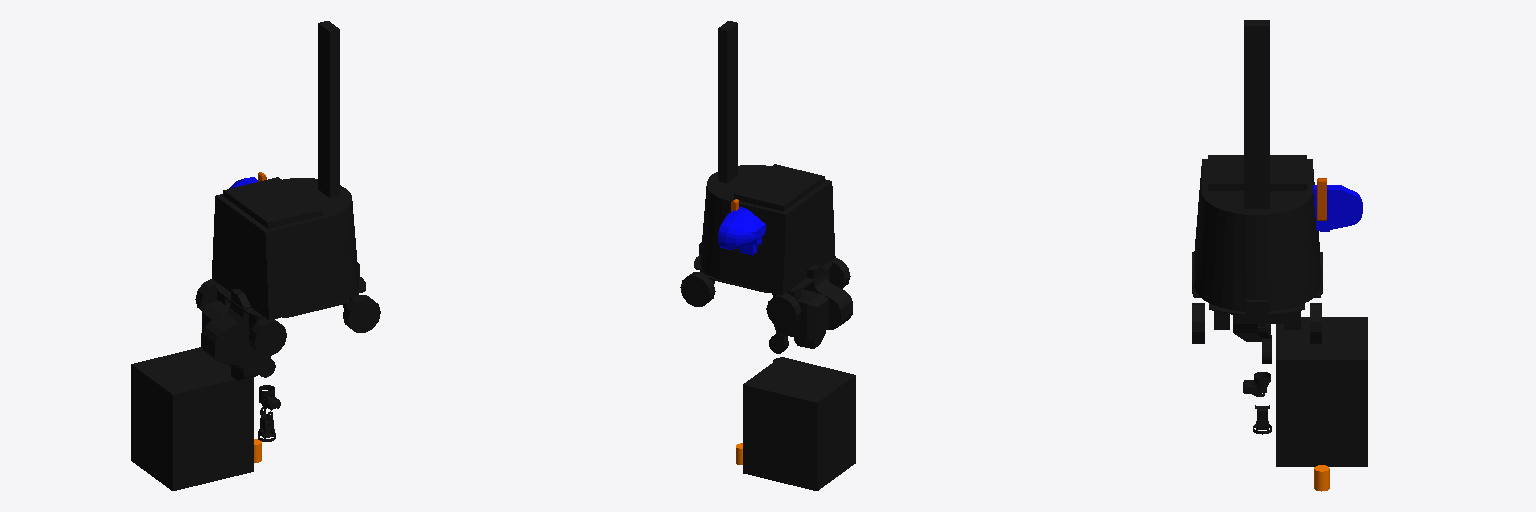
--- Render facts (derived) ---
3 views of the same robot in one strip: view 1: azimuth 30°, elevation 25°; view 2: azimuth 150°, elevation 25°; view 3: azimuth 270°, elevation 25° (orthographic).
Model sara with 31 links and 30 joints (15 revolute, 4 continuous, 11 fixed), rooted at base_link, posed every joint at zero.
Visible links, largest first — view 1: base_link, torso_link; view 2: base_link, torso_link, head_link; view 3: base_link, head_link, torso_link.
Boxes of the visible links, <box> form: base_link: <box>131,21,380,490</box>; torso_link: <box>201,289,270,380</box>; base_link: <box>680,21,855,490</box>; torso_link: <box>777,265,852,348</box>; head_link: <box>718,207,765,255</box>; base_link: <box>1192,20,1367,466</box>; head_link: <box>1313,185,1362,231</box>; torso_link: <box>1233,314,1283,341</box>.
Size in the robot's own frame: 0.8551 by 0.6808 by 2.09 metres.
10 mesh visuals loaded from 22 distinct referenced files (10 binary STL); not drawn: 12 (reference not matched to a file when rendering).

robot.urdf — sara:
<?xml version="1.0" ?>
<!-- =================================================================================== -->
<!-- |    This document was autogenerated by xacro from sara.urdf.xacro                | -->
<!-- |    EDITING THIS FILE BY HAND IS NOT RECOMMENDED                                 | -->
<!-- =================================================================================== -->
<robot name="sara" xmlns:xacro="http://ros.org/wiki/xacro">
  <gazebo>
    <plugin filename="libgazebo_ros_control.so" name="gazebo_ros_control">
      <robotNamespace>/</robotNamespace>
    </plugin>
  </gazebo>
  <gazebo reference="base_link">
    <turnGravityOff>false</turnGravityOff>
    <selfCollide>true</selfCollide>
  </gazebo>
  <gazebo>
    <plugin filename="libgazebo_ros_planar_move.so" name="object_controller">
      <commandTopic>/cmd_vel</commandTopic>
      <odometryTopic>/odom</odometryTopic>
      <odometryFrame>odom</odometryFrame>
      <odometryRate>20.0</odometryRate>
      <robotBaseFrame>base_link</robotBaseFrame>
    </plugin>
  </gazebo>
  <link name="base_link">
    <visual>
      <geometry>
        <mesh filename="package://sara_description/meshes/base.STL" scale="0.001 0.001 0.001"/>
      </geometry>
      <origin rpy="-1.57 0 1.57" xyz="0.295 -0.250 0.85635"/>
      <material name="black">
        <color rgba="0.12 0.12 0.12 1"/>
      </material>
    </visual>
    <visual>
      <geometry>
        <box size="0.4 0.35635 0.454"/>
      </geometry>
      <origin rpy="0 0 0" xyz="-0.055 0 0.227"/>
      <material name="black">
        <color rgba="0.12 0.12 0.12 1"/>
      </material>
    </visual>
    <collision>
      <geometry>
        <mesh filename="package://sara_description/meshes/base.STL" scale="0.001 0.001 0.001"/>
      </geometry>
      <origin rpy="-1.57 0 1.57" xyz="0.295 -0.250 0.85635"/>
    </collision>
    <collision>
      <geometry>
        <box size="0.4 0.35635 0.454"/>
      </geometry>
      <origin rpy="0 0 0" xyz="-0.055 0 0.227"/>
    </collision>
    <inertial>
      <mass value="40"/>
      <origin rpy="-1.57 0 1.57" xyz="-0.055 0 0.227"/>
      <inertia ixx="9.68458021" ixy="2.23668848" ixz="0.79348736" iyy="2.66882541" iyz="2.88061613" izz="9.25217984"/>
    </inertial>
  </link>
  <!-- hokuyo -->
  <gazebo reference="front_hokuyo_link">
    <turnGravityOff>false</turnGravityOff>
    <sensor name="front_hokuyo_sensor" type="ray">
      <pose>0 0 0 0 0 0.0425</pose>
      <visualize>true</visualize>
      <update_rate>30</update_rate>
      <ray>
        <scan>
          <horizontal>
            <samples>720</samples>
            <resolution>1</resolution>
            <min_angle>-1.57</min_angle>
            <max_angle>1.57</max_angle>
          </horizontal>
        </scan>
        <range>
          <min>0.10</min>
          <max>30.0</max>
          <resolution>0.01</resolution>
        </range>
        <noise>
          <type>gaussian</type>
          <!-- Noise parameters based on published spec for Hokuyo laser
                                            achieving "+-30mm" accuracy at range < 10m.  A mean of 0.0m and
                                            stddev of 0.01m will put 99.7% of samples within 0.03m of the true
                                            reading. -->
          <mean>0.0</mean>
          <stddev>0.01</stddev>
        </noise>
      </ray>
      <plugin filename="libgazebo_ros_laser.so" name="gazebo_ros_front__hokuyo_controller">
        <topicName>/hokuo/scan</topicName>
        <frameName>front_hokuyo_link</frameName>
      </plugin>
    </sensor>
  </gazebo>
  <joint name="front_hokuyo_joint" type="fixed">
    <parent link="base_link"/>
    <child link="front_hokuyo_link"/>
    <origin rpy="0 0 0" xyz="0.2516879 0 0"/>
  </joint>
  <link name="front_hokuyo_link">
    <visual>
      <geometry>
        <cylinder length="0.085" radius="0.03"/>
      </geometry>
      <origin rpy="0 0 0" xyz="0 0 0"/>
      <material name="orange">
        <color rgba="1 0.5 0 1"/>
      </material>
    </visual>
    <collision>
      <geometry>
        <cylinder length="0.085" radius="0.03"/>
      </geometry>
      <origin rpy="0 0 0" xyz="0 0 0"/>
    </collision>
    <inertial>
      <mass value="0.5"/>
      <origin rpy="0 0 0" xyz="0 0 0"/>
      <inertia ixx="0.001" ixy="0" ixz="0" iyy="0.001" iyz="0" izz="0.001"/>
    </inertial>
  </link>
  <gazebo reference="front_left_mecanum_wheel_link">
    <mu1 value="0"/>
    <mu2 value="0"/>
    <kp value="0"/>
    <kd value="0"/>
    <fdir1 value="1 0 0"/>
    <material>Gazebo/Orange</material>
    <turnGravityOff>false</turnGravityOff>
  </gazebo>
  <!--<xacro:macanum_wheel_transmission position="${position}"/>-->
  <link name="front_left_mecanum_wheel_link"/>
  <joint name="front_left_mecanum_wheel_joint" type="continuous">
    <parent link="base_link"/>
    <child link="front_left_mecanum_wheel_link"/>
    <axis xyz="0 0 1"/>
    <origin rpy=" -1.57079632679 0 0" xyz="0.205631 0.22735 -0.06"/>
  </joint>
  <gazebo reference="front_right_mecanum_wheel_link">
    <mu1 value="0"/>
    <mu2 value="0"/>
    <kp value="0"/>
    <kd value="0"/>
    <fdir1 value="1 0 0"/>
    <material>Gazebo/Orange</material>
    <turnGravityOff>false</turnGravityOff>
  </gazebo>
  <!--<xacro:macanum_wheel_transmission position="${position}"/>-->
  <link name="front_right_mecanum_wheel_link"/>
  <joint name="front_right_mecanum_wheel_joint" type="continuous">
    <parent link="base_link"/>
    <child link="front_right_mecanum_wheel_link"/>
    <axis xyz="0 0 1"/>
    <origin rpy=" 1.57079632679 0 0" xyz="0.205631 -0.22735 -0.06"/>
  </joint>
  <gazebo reference="rear_left_mecanum_wheel_link">
    <mu1 value="0"/>
    <mu2 value="0"/>
    <kp value="0"/>
    <kd value="0"/>
    <fdir1 value="1 0 0"/>
    <material>Gazebo/Orange</material>
    <turnGravityOff>false</turnGravityOff>
  </gazebo>
  <!--<xacro:macanum_wheel_transmission position="${position}"/>-->
  <link name="rear_left_mecanum_wheel_link"/>
  <joint name="rear_left_mecanum_wheel_joint" type="continuous">
    <parent link="base_link"/>
    <child link="rear_left_mecanum_wheel_link"/>
    <axis xyz="0 0 1"/>
    <origin rpy=" -1.57079632679 0 0" xyz="-0.205631 0.22735 -0.06"/>
  </joint>
  <gazebo reference="rear_right_mecanum_wheel_link">
    <mu1 value="0"/>
    <mu2 value="0"/>
    <kp value="0"/>
    <kd value="0"/>
    <fdir1 value="1 0 0"/>
    <material>Gazebo/Orange</material>
    <turnGravityOff>false</turnGravityOff>
  </gazebo>
  <!--<xacro:macanum_wheel_transmission position="${position}"/>-->
  <link name="rear_right_mecanum_wheel_link"/>
  <joint name="rear_right_mecanum_wheel_joint" type="continuous">
    <parent link="base_link"/>
    <child link="rear_right_mecanum_wheel_link"/>
    <axis xyz="0 0 1"/>
    <origin rpy=" 1.57079632679 0 0" xyz="-0.205631 -0.22735 -0.06"/>
  </joint>
  <gazebo reference="torso_link">
    <turnGravityOff>false</turnGravityOff>
    <selfCollide>true</selfCollide>
  </gazebo>
  <joint name="base_torso_joint" type="fixed">
    <parent link="base_link"/>
    <child link="torso_link"/>
    <limit effort="1000.0" lower="0" upper="0.5" velocity="0.2"/>
    <origin rpy="0 0 0" xyz="0.177374 0 0.70531"/>
    <axis xyz="0 0 1"/>
  </joint>
  <link name="torso_link">
    <visual>
      <geometry>
        <mesh filename="package://sara_description/meshes/torse.STL" scale="0.001 0.001 0.001"/>
      </geometry>
      <origin rpy="1.5708 0 1.5708" xyz="-0.14427 -0.197233 0"/>
      <material name="black">
        <color rgba="0.12 0.12 0.12 1"/>
      </material>
    </visual>
    <collision>
      <geometry>
        <mesh filename="package://sara_description/meshes/torse.STL" scale="0.001 0.001 0.001"/>
      </geometry>
      <origin rpy="1.5708 0 1.5708" xyz="-0.14427 -0.197233 0"/>
    </collision>
    <inertial>
      <mass value="4.17008957"/>
      <origin rpy="1.5708 0 1.5708" xyz="-0.14427 -0.197233 0"/>
      <inertia ixx="0.03994446" ixy="0.00064933" ixz="0.00005666" iyy="0.04946667" iyz="0.00660833" izz="0.05202654"/>
    </inertial>
  </link>
  <gazebo reference="neck_link">
    <turnGravityOff>false</turnGravityOff>
    <selfCollide>true</selfCollide>
  </gazebo>
  <transmission name="head_yaw_trans" type="SimpleTransmission">
    <type>transmission_interface/SimpleTransmission</type>
    <actuator name="head_yaw_motor">
      <mechanicalReduction>1</mechanicalReduction>
    </actuator>
    <joint name="head_yaw_joint">
      <hardwareInterface>PositionJointInterface</hardwareInterface>
    </joint>
  </transmission>
  <joint name="head_yaw_joint" type="revolute">
    <parent link="torso_link"/>
    <child link="neck_link"/>
    <limit effort="1000.0" lower="-1.22173" upper="1.22173" velocity="0.5"/>
    <origin rpy="0 0 0" xyz="0.032295 0 0.2777"/>
    <axis xyz="0 0 1"/>
  </joint>
  <link name="neck_link">
    <visual>
      <geometry>
        <mesh filename="package://sara_description/meshes/cou.STL" scale="0.001 0.001 0.001"/>
      </geometry>
      <origin rpy="1.5708 0 1.5708" xyz="0 0 0"/>
      <material name="blue">
        <color rgba="0.06 0.06 1 1"/>
      </material>
    </visual>
    <collision>
      <geometry>
        <mesh filename="package://sara_description/meshes/cou.STL" scale="0.001 0.001 0.001"/>
      </geometry>
      <origin rpy="1.5708 0 1.5708" xyz="0 0 0"/>
    </collision>
    <inertial>
      <mass value="2"/>
      <origin rpy="1.5708 0 1.5708" xyz="0 0 0"/>
      <inertia ixx="0.00438238" ixy="0.0" ixz="0.0" iyy="0.0040183" iyz="0.0" izz="0.00585293"/>
    </inertial>
  </link>
  <gazebo reference="head_link">
    <turnGravityOff>false</turnGravityOff>
    <selfCollide>true</selfCollide>
  </gazebo>
  <transmission name="head_pitch_trans" type="SimpleTransmission">
    <type>transmission_interface/SimpleTransmission</type>
    <actuator name="head_pitch_motor">
      <mechanicalReduction>1</mechanicalReduction>
    </actuator>
    <joint name="head_pitch_joint">
      <hardwareInterface>PositionJointInterface</hardwareInterface>
    </joint>
  </transmission>
  <joint name="head_pitch_joint" type="revolute">
    <parent link="neck_link"/>
    <child link="head_link"/>
    <limit effort="1000.0" lower="-0.40" upper="1.04" velocity="0.5"/>
    <origin rpy="-1.57 0 0" xyz="0 0 0.0927"/>
    <axis xyz="0 0 1"/>
  </joint>
  <link name="head_link">
    <visual>
      <geometry>
        <mesh filename="package://sara_description/meshes/tete.STL" scale="0.001 0.001 0.001"/>
      </geometry>
      <origin rpy="1.5708 -1.5708 1.5708" xyz="0 0 0"/>
      <material name="blue">
        <color rgba="0.06 0.06 1 1"/>
      </material>
    </visual>
    <collision>
      <geometry>
        <mesh filename="package://sara_description/meshes/tete.STL" scale="0.001 0.001 0.001"/>
      </geometry>
      <origin rpy="1.5708 -1.5708 1.5708" xyz="0 0 0"/>
    </collision>
    <inertial>
      <mass value="2.60401968"/>
      <origin rpy="1.5708 0 1.5708" xyz="0 0 0"/>
      <inertia ixx="0.02722768" ixy="0.00015673" ixz="0.0000148" iyy="0.02716685" iyz="0.00524002" izz="0.04109802"/>
    </inertial>
  </link>
  <joint name="head_xtion_depth_joint" type="fixed">
    <origin rpy="0 0 0" xyz="0.0 0.049 0.0"/>
    <parent link="head_xtion_link"/>
    <child link="head_xtion_depth_frame"/>
  </joint>
  <link name="head_xtion_depth_frame"/>
  <joint name="head_xtion_depth_optical_joint" type="fixed">
    <origin rpy="-1.57079632679 0.0 -1.57079632679" xyz="0 0 0"/>
    <parent link="head_xtion_depth_frame"/>
    <child link="head_xtion_depth_optical_frame"/>
  </joint>
  <link name="head_xtion_depth_optical_frame"/>
  <joint name="head_xtion_rgb_joint" type="fixed">
    <origin rpy="0 0 0" xyz="0.0 0.022 0.0"/>
    <parent link="head_xtion_link"/>
    <child link="head_xtion_rgb_frame"/>
  </joint>
  <link name="head_xtion_rgb_frame"/>
  <joint name="head_xtion_rgb_optical_joint" type="fixed">
    <origin rpy="-1.57079632679 0.0 -1.57079632679" xyz="0 0 0"/>
    <parent link="head_xtion_rgb_frame"/>
    <child link="head_xtion_rgb_optical_frame"/>
  </joint>
  <link name="head_xtion_rgb_optical_frame"/>
  <!-- ASUS Xtion PRO camera for simulation -->
  <gazebo reference="head_xtion_depth_frame">
    <sensor name="head_xtion" type="depth">
      <update_rate>20</update_rate>
      <camera>
        <horizontal_fov>1.09606677025</horizontal_fov>
        <image>
          <format>R8G8B8</format>
          <width>640</width>
          <height>480</height>
        </image>
        <clip>
          <near>0.5</near>
          <far>9</far>
        </clip>
      </camera>
      <plugin filename="libgazebo_ros_openni_kinect.so" name="head_xtion_camera_controller">
        <alwaysOn>true</alwaysOn>
        <updateRate>20</updateRate>
        <imageTopicName>head_xtion/rgb/image_raw</imageTopicName>
        <cameraInfoTopicName>head_xtion/rgb/camera_info</cameraInfoTopicName>
        <depthImageTopicName>head_xtion/depth/image_raw</depthImageTopicName>
        <depthImageCameraInfoTopicName>head_xtion/depth/camera_info</depthImageCameraInfoTopicName>
        <pointCloudTopicName>head_xtion/depth/points</pointCloudTopicName>
        <frameName>head_xtion_depth_optical_frame</frameName>
        <distortion_k1>0.0</distortion_k1>
        <distortion_k2>0.0</distortion_k2>
        <distortion_k3>0.0</distortion_k3>
        <distortion_t1>0.0</distortion_t1>
        <distortion_t2>0.0</distortion_t2>
      </plugin>
    </sensor>
  </gazebo>
  <joint name="head_xtion_joint" type="fixed">
    <origin rpy="1.57 0 0" xyz="0.0776104 -0.13 0"/>
    <parent link="head_link"/>
    <child link="head_xtion_link"/>
  </joint>
  <link name="head_xtion_link">
    <inertial>
      <mass value="0.200"/>
      <origin rpy="1.5708 0 1.5708" xyz="0 0 0"/>
      <inertia ixx="5.8083e-4" ixy="0" ixz="0" iyy="3.0833e-5" iyz="0" izz="5.9083e-4"/>
    </inertial>
    <visual>
      <origin rpy="1.5708 0 1.5708" xyz="0 0 0"/>
      <geometry>
        <mesh filename="package://sara_description/meshes/xtion.STL" scale="0.001 0.001 0.001"/>
      </geometry>
    </visual>
  </link>
  <gazebo reference="right_clavicular_link">
    <turnGravityOff>false</turnGravityOff>
    <selfCollide>true</selfCollide>
  </gazebo>
  <gazebo reference="right_upper_arm_upper_link">
    <turnGravityOff>false</turnGravityOff>
    <selfCollide>true</selfCollide>
  </gazebo>
  <gazebo reference="right_upper_arm_lower_link">
    <turnGravityOff>false</turnGravityOff>
    <selfCollide>true</selfCollide>
  </gazebo>
  <gazebo reference="right_forearm_upper_link">
    <turnGravityOff>false</turnGravityOff>
    <selfCollide>true</selfCollide>
  </gazebo>
  <gazebo reference="right_forearm_lower_link">
    <turnGravityOff>false</turnGravityOff>
    <selfCollide>true</selfCollide>
  </gazebo>
  <gazebo reference="right_wrist_upper_link">
    <turnGravityOff>false</turnGravityOff>
    <selfCollide>true</selfCollide>
  </gazebo>
  <gazebo reference="right_wrist_lower_link">
    <turnGravityOff>false</turnGravityOff>
    <selfCollide>true</selfCollide>
  </gazebo>
  <gazebo reference="right_socket_link">
    <turnGravityOff>false</turnGravityOff>
    <selfCollide>true</selfCollide>
  </gazebo>
  <transmission name="right_shoulder_roll_trans" type="SimpleTransmission">
    <type>transmission_interface/SimpleTransmission</type>
    <actuator name="right_shoulder_roll_motor">
      <mechanicalReduction>1</mechanicalReduction>
    </actuator>
    <joint name="right_shoulder_roll_joint">
      <hardwareInterface>VelocityJointInterface</hardwareInterface>
    </joint>
  </transmission>
  <transmission name="right_shoulder_pitch_trans" type="SimpleTransmission">
    <type>transmission_interface/SimpleTransmission</type>
    <actuator name="right_shoulder_pitch_motor">
      <mechanicalReduction>1</mechanicalReduction>
    </actuator>
    <joint name="right_shoulder_pitch_joint">
      <hardwareInterface>VelocityJointInterface</hardwareInterface>
    </joint>
  </transmission>
  <transmission name="right_shoulder_yaw_trans" type="SimpleTransmission">
    <type>transmission_interface/SimpleTransmission</type>
    <actuator name="right_shoulder_yaw_motor">
      <mechanicalReduction>1</mechanicalReduction>
    </actuator>
    <joint name="right_shoulder_yaw_joint">
      <hardwareInterface>VelocityJointInterface</hardwareInterface>
    </joint>
  </transmission>
  <transmission name="right_elbow_pitch_trans" type="SimpleTransmission">
    <type>transmission_interface/SimpleTransmission</type>
    <actuator name="right_elbow_pitch_motor">
      <mechanicalReduction>1</mechanicalReduction>
    </actuator>
    <joint name="right_elbow_pitch_joint">
      <hardwareInterface>VelocityJointInterface</hardwareInterface>
    </joint>
  </transmission>
  <transmission name="right_elbow_yaw_trans" type="SimpleTransmission">
    <type>transmission_interface/SimpleTransmission</type>
    <actuator name="right_elbow_yaw_motor">
      <mechanicalReduction>1</mechanicalReduction>
    </actuator>
    <joint name="right_elbow_yaw_joint">
      <hardwareInterface>VelocityJointInterface</hardwareInterface>
    </joint>
  </transmission>
  <transmission name="right_wrist_pitch_trans" type="SimpleTransmission">
    <type>transmission_interface/SimpleTransmission</type>
    <actuator name="right_wrist_pitch_motor">
      <mechanicalReduction>1</mechanicalReduction>
    </actuator>
    <joint name="right_wrist_pitch_joint">
      <hardwareInterface>VelocityJointInterface</hardwareInterface>
    </joint>
  </transmission>
  <transmission name="right_wrist_roll_trans" type="SimpleTransmission">
    <type>transmission_interface/SimpleTransmission</type>
    <actuator name="right_wrist_roll_motor">
      <mechanicalReduction>1</mechanicalReduction>
    </actuator>
    <joint name="right_wrist_roll_joint">
      <hardwareInterface>VelocityJointInterface</hardwareInterface>
    </joint>
  </transmission>
  <joint name="right_shoulder_roll_joint" type="revolute">
    <parent link="torso_link"/>
    <child link="right_clavicular_link"/>
    <dynamics damping="0.1"/>
    <limit effort="10000.0" lower="-1.6" upper="1.4" velocity="0.5"/>
    <origin rpy="0 -1.57 0" xyz="0 -0.145 0.189"/>
    <axis xyz="0 0 1"/>
  </joint>
  <link name="right_clavicular_link">
    <visual>
      <geometry>
        <mesh filename="package://sara_description/meshes/epaule1.STL" scale="0.001 0.001 0.001"/>
      </geometry>
      <origin rpy="0 0 0" xyz="0 0 0"/>
      <material name="black">
        <color rgba="0.12 0.12 0.12 1"/>
      </material>
    </visual>
    <collision>
      <geometry>
        <mesh filename="package://sara_description/meshes/epaule1.STL" scale="0.001 0.001 0.001"/>
      </geometry>
      <origin rpy="0 0 0" xyz="0 0 0"/>
    </collision>
    <inertial>
      <mass value="0.28506911"/>
      <origin rpy="0 0 0" xyz="0.0 -0.03225261 -0.01842117"/>
      <inertia ixx="0.00040678" ixy="0.0" ixz="-0.00000004" iyy="0.00039958" iyz="-0.00003453" izz="0.00059825"/>
    </inertial>
  </link>
  <joint name="right_shoulder_pitch_joint" type="revolute">
    <parent link="right_clavicular_link"/>
    <child link="right_upper_arm_upper_link"/>
    <dynamics damping="0.1"/>
    <limit effort="10000.0" lower="-4.7124" upper="1.5708" velocity="0.5"/>
    <origin rpy="-1.57 0 0" xyz="0 -0.085 0"/>
    <axis xyz="0 0 1"/>
  </joint>
  <link name="right_upper_arm_upper_link">
    <visual>
      <geometry>
        <mesh filename="package://sara_description/meshes/epaule2.STL" scale="0.001 0.001 0.001"/>
      </geometry>
      <origin rpy="0 0 0" xyz="0 0 0"/>
      <material name="black">
        <color rgba="0.12 0.12 0.12 1"/>
      </material>
    </visual>
    <collision>
      <geometry>
        <mesh filename="package://sara_description/meshes/epaule2.STL" scale="0.001 0.001 0.001"/>
      </geometry>
      <origin rpy="0 0 0" xyz="0 0 0"/>
    </collision>
    <inertial>
      <mass value="0.28506911"/>
      <origin rpy="0 0 0" xyz="-0.03225261 0 -0.01842117"/>
      <inertia ixx="0.00039958" ixy="0" ixz="-0.00003453" iyy="0.00040678" iyz="0.00000004" izz="0.00059825"/>
    </inertial>
  </link>
  <joint name="right_shoulder_yaw_joint" type="revolute">
    <parent link="right_upper_arm_upper_link"/>
    <child link="right_upper_arm_lower_link"/>
    <dynamics damping="0.1"/>
    <limit effort="10000.0" lower="-3.1416" upper="3.1416" velocity="0.5"/>
    <origin rpy="1.5708 0 1.5708" xyz="-0.085 0 0"/>
    <axis xyz="0 0 1"/>
  </joint>
  <link name="right_upper_arm_lower_link">
    <visual>
      <geometry>
        <mesh filename="package://sara_description/meshes/bras_haut.STL" scale="0.001 0.001 0.001"/>
      </geometry>
      <origin rpy="0 0 0" xyz="0 0 0"/>
      <material name="black">
        <color rgba="0.12 0.12 0.12 1"/>
      </material>
    </visual>
    <collision>
      <geometry>
        <mesh filename="package://sara_description/meshes/bras_haut.STL" scale="0.001 0.001 0.001"/>
      </geometry>
      <origin rpy="0 0 0" xyz="0 0 0"/>
    </collision>
    <inertial>
      <mass value="0.85240803"/>
      <origin rpy="0 0 0" xyz="-0.00168302 0.00155140 -0.13913505"/>
      <inertia ixx="0.00538199" ixy="-0.00000635" ixz="0.00012863" iyy="0.00562525" iyz="-0.00012986" izz="0.00050159"/>
    </inertial>
  </link>
  <joint name="right_elbow_pitch_joint" type="revolute">
    <parent link="right_upper_arm_lower_link"/>
    <child link="right_forearm_upper_link"/>
    <dynamics damping="0.1"/>
    <limit effort="10000.0" lower="-2.20" upper="1.90" velocity="0.5"/>
    <origin rpy="-1.5708 0 0" xyz="0 0 -0.31"/>
    <axis xyz="0 0 1"/>
  </joint>
  <link name="right_forearm_upper_link">
    <visual>
      <geometry>
        <mesh filename="package://sara_description/meshes/coude.STL" scale="0.001 0.001 0.001"/>
      </geometry>
      <origin rpy="0 0 0" xyz="0 0 -0.0005"/>
      <material name="black">
        <color rgba="0.12 0.12 0.12 1"/>
      </material>
    </visual>
    <collision>
      <geometry>
        <mesh filename="package://sara_description/meshes/coude.STL" scale="0.001 0.001 0.001"/>
      </geometry>
      <origin rpy="0 0 0" xyz="0 0 0"/>
    </collision>
    <inertial>
      <mass value="0.28300045"/>
      <origin rpy="0 0 0" xyz="0.00000207 0.03922132 -0.01628605"/>
      <inertia ixx="0.00036109" ixy="0.0" ixz="-0.00000002" iyy="0.00029872" iyz="0.00001701" izz="0.00055069"/>
    </inertial>
  </link>
  <joint name="right_elbow_yaw_joint" type="revolute">
    <parent link="right_forearm_upper_link"/>
    <child link="right_forearm_lower_link"/>
    <dynamics damping="0.1"/>
    <limit effort="10000.0" lower="-3.1416" upper="3.1416" velocity="0.5"/>
    <origin rpy="1.5708 -1.5708 0" xyz="0 0.0945 0"/>
    <axis xyz="0 0 1"/>
  </joint>
  <link name="right_forearm_lower_link">
    <visual>
      <geometry>
        <mesh filename="package://sara_description/meshes/avant_bras.STL" scale="0.001 0.001 0.001"/>
      </geometry>
      <origin rpy="0 0 0" xyz="0 0 0"/>
      <material name="black">
        <color rgba="0.12 0.12 0.12 1"/>
      </material>
    </visual>
    <collision>
      <geometry>
        <mesh filename="package://sara_description/meshes/avant_bras.STL" scale="0.001 0.001 0.001"/>
      </geometry>
      <origin rpy="0 0 0" xyz="0 0 0"/>
    </collision>
    <inertial>
      <mass value="0.1177"/>
      <origin rpy="0 0 0" xyz="0.0 -0.00000184 -0.03625492"/>
      <inertia ixx="0.54274952" ixy="0.0" ixz="0.0" iyy="1.03078569" iyz="0.0" izz="0.00010905"/>
    </inertial>
  </link>
  <joint name="right_wrist_joint" type="fixed">
    <parent link="right_forearm_lower_link"/>
    <child link="right_wrist_upper_link"/>
    <limit effort="10000.0" lower="-3.1416" upper="3.1416" velocity="0.5"/>
    <origin rpy="1.5708 -1.5708 0" xyz="0 0 -0.05124"/>
    <axis xyz="0 1 0"/>
  </joint>
  <link name="right_wrist_upper_link">
    <visual>
      <geometry>
        <mesh filename="package://sara_description/meshes/poignet_haut.STL" scale="0.001 0.001 0.001"/>
      </geometry>
      <origin rpy="0 0 0" xyz="0 0 0"/>
      <material name="black">
        <color rgba="0.12 0.12 0.12 1"/>
      </material>
    </visual>
    <collision>
      <geometry>
        <mesh filename="package://sara_description/meshes/poignet_haut.STL" scale="0.001 0.001 0.001"/>
      </geometry>
      <origin rpy="0 0 0" xyz="0 0 0"/>
    </collision>
    <inertial>
      <mass value="0.1956991"/>
      <origin rpy="0 0 0" xyz="-0.03893593 0.00017228 -0.00000284"/>
      <inertia ixx="0.00007035" ixy="-0.00000150" ixz="0.0" iyy="0.00011510" iyz="0.0" izz="0.00013235"/>
    </inertial>
  </link>
  <joint name="right_wrist_pitch_joint" type="revolute">
    <parent link="right_wrist_upper_link"/>
    <child link="right_wrist_lower_link"/>
    <dynamics damping="0.1"/>
    <limit effort="10000.0" lower="-1.5708" upper="1.5708" velocity="0.5"/>
    <origin rpy="1.5708 -1.5708 0" xyz="-0.0606 0 0"/>
    <axis xyz="0 0 1"/>
  </joint>
  <link name="right_wrist_lower_link">
    <visual>
      <geometry>
        <mesh filename="package://sara_description/meshes/poignet_bas.STL" scale="0.001 0.001 0.001"/>
      </geometry>
      <origin rpy=" 0 0 0" xyz="0 0 0"/>
      <material name="black">
        <color rgba="0.12 0.12 0.12 1"/>
      </material>
    </visual>
    <collision>
      <geometry>
        <mesh filename="package://sara_description/meshes/poignet_bas.STL" scale="0.001 0.001 0.001"/>
      </geometry>
      <origin rpy="0 0 0" xyz="0 0 0"/>
    </collision>
    <inertial>
      <mass value="0.18747684"/>
      <origin rpy=" 0 0 0" xyz="0.00001243 0.05721169 0.0"/>
      <inertia ixx="0.00015391" ixy="-0.00000060" ixz="0.0" iyy="0.00006260" iyz="0.0" izz="0.00015218"/>
    </inertial>
  </link>
  <joint name="right_wrist_roll_joint" type="revolute">
    <parent link="right_wrist_lower_link"/>
    <child link="right_socket_link"/>
    <dynamics damping="0.1"/>
    <limit effort="10000.0" lower="-1.49" upper="1.49" velocity="0.5"/>
    <origin rpy="1.5708 0 0" xyz="0 0.084375 0"/>
    <axis xyz="1 0 0"/>
  </joint>
  <link name="right_socket_link">
    <visual>
      <geometry>
        <mesh filename="package://sara_description/meshes/attache_pince.STL" scale="0.001 0.001 0.001"/>
      </geometry>
      <origin rpy="0 0 0" xyz="0 0 0"/>
      <material name="black">
        <color rgba="0.12 0.12 0.12 1"/>
      </material>
    </visual>
    <collision>
      <geometry>
        <mesh filename="package://sara_description/meshes/attache_pince.STL" scale="0.001 0.001 0.001"/>
      </geometry>
      <origin rpy="0 0 0" xyz="0 0 0"/>
    </collision>
    <inertial>
      <mass value="0.02796"/>
      <origin rpy="0 0 0" xyz="0.0 0.0 -0.01570460"/>
      <inertia ixx="0.00000889" ixy="0.0" ixz="0.0" iyy="0.00002569" iyz="0.0" izz="0.00002493"/>
    </inertial>
  </link>
  <!-- End Effector -->
  <!-- Gripper 85 (round base)
    <xacro:include filename="$(find robotiq_85_description)/urdf/robotiq_85_gripper.urdf.xacro"/>
    <xacro:robotiq_85_gripper prefix="right_" parent="right_socket_link">
        <origin xyz="0 0 -0.02989" rpy="0 1.5708 0"/>
    </xacro:robotiq_85_gripper>-->
  <transmission name="right_robotiq_85_left_knuckle_trans">
    <type>transmission_interface/SimpleTransmission</type>
    <joint name="right_robotiq_85_left_knuckle_joint">
      <hardwareInterface>PositionJointInterface</hardwareInterface>
    </joint>
    <actuator name="right_robotiq_85_left_knuckle_motor">
      <mechanicalReduction>1</mechanicalReduction>
      <hardwareInterface>PositionJointInterface</hardwareInterface>
    </actuator>
  </transmission>
  <gazebo>
    <!-- loading plugin: mimic joints works in gazebo now -->
    <plugin filename="libroboticsgroup_gazebo_mimic_joint_plugin.so" name="right_mimic_robotiq_85_1">
      <joint>right_robotiq_85_left_knuckle_joint</joint>
      <mimicJoint>right_robotiq_85_right_knuckle_joint</mimicJoint>
      <!--multiplier>1.0</multiplier>
            <offset>0.0</offset-->
    </plugin>
    <plugin filename="libroboticsgroup_gazebo_mimic_joint_plugin.so" name="right_mimic_robotiq_85_2">
      <joint>right_robotiq_85_left_knuckle_joint</joint>
      <mimicJoint>right_robotiq_85_left_inner_knuckle_joint</mimicJoint>
      <!--multiplier>1.0</multiplier>
            <offset>0.0</offset-->
    </plugin>
    <plugin filename="libroboticsgroup_gazebo_mimic_joint_plugin.so" name="right_mimic_robotiq_85_3">
      <joint>right_robotiq_85_left_knuckle_joint</joint>
      <mimicJoint>right_robotiq_85_right_inner_knuckle_joint</mimicJoint>
      <!--multiplier>1.0</multiplier>
            <offset>0.0</offset-->
    </plugin>
    <plugin filename="libroboticsgroup_gazebo_mimic_joint_plugin.so" name="right_mimic_robotiq_85_4">
      <joint>right_robotiq_85_left_knuckle_joint</joint>
      <mimicJoint>right_robotiq_85_left_finger_tip_joint</mimicJoint>
      <multiplier>-1.0</multiplier>
      <offset>0.0</offset>
    </plugin>
    <plugin filename="libroboticsgroup_gazebo_mimic_joint_plugin.so" name="right_mimic_robotiq_85_5">
      <joint>right_robotiq_85_left_knuckle_joint</joint>
      <mimicJoint>right_robotiq_85_right_finger_tip_joint</mimicJoint>
      <multiplier>-1.0</multiplier>
      <offset>0.0</offset>
    </plugin>
  </gazebo>
  <!--  /\  -->
  <joint name="right_robotiq_85_base_joint" type="fixed">
    <parent link="right_socket_link"/>
    <child link="right_robotiq_85_base_link"/>
    <axis xyz="1 0 0"/>
    <origin rpy="0 1.5708 0" xyz="0 0 -0.02989"/>
  </joint>
  <!--  \/  -->
  <link name="right_robotiq_85_base_link">
    <visual>
      <geometry>
        <mesh filename="package://robotiq_c2_description/meshes/robotiq_c2/visual/robotiq_85_gripper_base.dae"/>
      </geometry>
      <origin rpy="3.1415 0 1.5707" xyz="0 0 0"/>
    </visual>
    <collision>
      <geometry>
        <mesh filename="package://robotiq_c2_description/meshes/robotiq_c2/collision/robotiq_85_gripper_base.dae"/>
      </geometry>
      <origin rpy="1.5707 0 1.5707" xyz="0 0 0"/>
    </collision>
    <inertial>
      <mass value="0.636951"/>
      <origin xyz="0.0 0.0 0.0"/>
      <inertia ixx="0.000380" ixy="0.000000" ixz="0.000000" iyx="0.000000" iyy="0.001110" iyz="0.000000" izx="0.000000" izy="0.000000" izz="0.001171"/>
    </inertial>
  </link>
  <!--  /\  -->
  <!--  /\  -->
  <joint name="right_robotiq_85_left_knuckle_joint" type="revolute">
    <parent link="right_robotiq_85_base_link"/>
    <child link="right_robotiq_85_left_knuckle_link"/>
    <axis xyz="1 0 0"/>
    <origin rpy="-1.5707 1.5707 0" xyz=".04191 .0306 0"/>
    <limit effort="1000" lower="0" upper=".8575" velocity="2.0"/>
  </joint>
  <joint name="right_robotiq_85_right_knuckle_joint" type="revolute">
    <parent link="right_robotiq_85_base_link"/>
    <child link="right_robotiq_85_right_knuckle_link"/>
    <axis xyz="1 0 0"/>
    <origin rpy="1.5707 -1.5707 0" xyz=".04191 -.0306 0"/>
    <limit effort="1000" lower="0" upper="1.5707" velocity="2.0"/>
    <mimic joint="right_robotiq_85_left_knuckle_joint" multiplier="1"/>
  </joint>
  <!--  \/  -->
  <!--  \/  -->
  <link name="right_robotiq_85_left_knuckle_link">
    <visual>
      <geometry>
        <mesh filename="package://robotiq_c2_description/meshes/robotiq_c2/visual/robotiq_85_gripper_joint_0_L.dae"/>
      </geometry>
      <origin rpy="3.14159 -1.5707 0" xyz="0 .04191 -.0306"/>
    </visual>
    <collision>
      <geometry>
        <mesh filename="package://robotiq_c2_description/meshes/robotiq_c2/collision/robotiq_85_gripper_joint_0_L.dae"/>
      </geometry>
      <origin rpy="1.5707 -1.5707 0" xyz="0 .04191 -.0306"/>
    </collision>
    <inertial>
      <mass value="0.018491"/>
      <origin xyz="0.0 0.0 0.0"/>
      <inertia ixx="0.000009" ixy="-0.000001" ixz="0.000000" iyx="-0.000001" iyy="0.000001" iyz="0.000000" izx="0.000000" izy="0.000000" izz="0.000010"/>
    </inertial>
  </link>
  <link name="right_robotiq_85_right_knuckle_link">
    <visual>
      <geometry>
        <mesh filename="package://robotiq_c2_description/meshes/robotiq_c2/visual/robotiq_85_gripper_joint_0_R.dae"/>
      </geometry>
      <origin rpy="3.14159 1.5707 0" xyz="0 .04191 -.0306"/>
    </visual>
    <collision>
      <geometry>
        <mesh filename="package://robotiq_c2_description/meshes/robotiq_c2/collision/robotiq_85_gripper_joint_0_R.dae"/>
      </geometry>
      <origin rpy="1.5707 1.5707 0" xyz="0 .04191 -.0306"/>
    </collision>
    <inertial>
      <mass value="0.018491"/>
      <origin xyz="0.0 0.0 0.0"/>
      <inertia ixx="0.000009" ixy="-0.000001" ixz="0.000000" iyx="-0.000001" iyy="0.000001" iyz="0.000000" izx="0.000000" izy="0.000000" izz="0.000010"/>
    </inertial>
  </link>
  <!--  /\  -->
  <!--  /\  -->
  <joint name="right_robotiq_85_left_finger_joint" type="fixed">
    <parent link="right_robotiq_85_left_knuckle_link"/>
    <child link="right_robotiq_85_left_finger_link"/>
    <axis xyz="1 0 0"/>
    <origin rpy="3.1415 0 0" xyz="0 .00508 .03134"/>
    <limit effort="1000" lower="0" upper="1.5707" velocity="2.0"/>
  </joint>
  <joint name="right_robotiq_85_right_finger_joint" type="fixed">
    <parent link="right_robotiq_85_right_knuckle_link"/>
    <child link="right_robotiq_85_right_finger_link"/>
    <axis xyz="1 0 0"/>
    <origin rpy="3.1415 0 0" xyz="0 .00508 .03134"/>
    <limit effort="1000" lower="0" upper="1.5707" velocity="2.0"/>
  </joint>
  <!--  \/  -->
  <!--  \/  -->
  <link name="right_robotiq_85_left_finger_link">
    <visual>
      <geometry>
        <mesh filename="package://robotiq_c2_description/meshes/robotiq_c2/visual/robotiq_85_gripper_joint_1_L.dae"/>
      </geometry>
      <origin rpy="0 1.5707 0" xyz="0 -.03683 .06194"/>
    </visual>
    <collision>
      <geometry>
        <mesh filename="package://robotiq_c2_description/meshes/robotiq_c2/collision/robotiq_85_gripper_joint_1_L.dae"/>
      </geometry>
      <origin rpy="-1.5707 1.5707 0" xyz="0 -.03683 .06194"/>
    </collision>
    <inertial>
      <mass value="0.027309"/>
      <origin xyz="0.0 0.0 0.0"/>
      <inertia ixx="0.000003" ixy="-0.000002" ixz="0.000000" iyx="-0.000002" iyy="0.000021" iyz="0.000000" izx="0.000000" izy="0.000000" izz="0.000020"/>
    </inertial>
  </link>
  <link name="right_robotiq_85_right_finger_link">
    <visual>
      <geometry>
        <mesh filename="package://robotiq_c2_description/meshes/robotiq_c2/visual/robotiq_85_gripper_joint_1_R.dae"/>
      </geometry>
      <origin rpy="0 -1.5707 0" xyz="0 -.03683 .06194"/>
    </visual>
    <collision>
      <geometry>
        <mesh filename="package://robotiq_c2_description/meshes/robotiq_c2/collision/robotiq_85_gripper_joint_1_R.dae"/>
      </geometry>
      <origin rpy="-1.5707 -1.5707 0" xyz="0 -.03683 .06194"/>
    </collision>
    <inertial>
      <mass value="0.027309"/>
      <origin xyz="0.0 0.0 0.0"/>
      <inertia ixx="0.000003" ixy="-0.000002" ixz="0.000000" iyx="-0.000002" iyy="0.000021" iyz="0.000000" izx="0.000000" izy="0.000000" izz="0.000020"/>
    </inertial>
  </link>
  <!--  /\  -->
  <!--  /\  -->
  <joint name="right_robotiq_85_left_inner_knuckle_joint" type="revolute">
    <parent link="right_robotiq_85_base_link"/>
    <child link="right_robotiq_85_left_inner_knuckle_link"/>
    <axis xyz="1 0 0"/>
    <origin rpy="1.5707 1.5707 0" xyz=".04843 .0127 0"/>
    <limit effort="1000" lower="0" upper="1.5707" velocity="2.0"/>
    <mimic joint="right_robotiq_85_left_knuckle_joint" offset="0"/>
  </joint>
  <joint name="right_robotiq_85_right_inner_knuckle_joint" type="revolute">
    <parent link="right_robotiq_85_base_link"/>
    <child link="right_robotiq_85_right_inner_knuckle_link"/>
    <axis xyz="1 0 0"/>
    <origin rpy="-1.5707 -1.5707 0" xyz=".04843 -.0127 0"/>
    <limit effort="1000" lower="0" upper="1.5707" velocity="2.0"/>
    <mimic joint="right_robotiq_85_left_knuckle_joint" offset="0"/>
  </joint>
  <!--  \/  -->
  <!--  \/  -->
  <link name="right_robotiq_85_left_inner_knuckle_link">
    <visual>
      <geometry>
        <mesh filename="package://robotiq_c2_description/meshes/robotiq_c2/visual/robotiq_85_gripper_joint_2_L.dae"/>
      </geometry>
      <origin rpy="0 1.5707 0" xyz="0 -.04843 .0127"/>
    </visual>
    <collision>
      <geometry>
        <mesh filename="package://robotiq_c2_description/meshes/robotiq_c2/collision/robotiq_85_gripper_joint_2_L.dae"/>
      </geometry>
      <origin rpy="-1.5707 1.5707 0" xyz="0 -.04843 .0127"/>
    </collision>
    <inertial>
      <mass value="0.029951"/>
      <origin xyz="0.0 0.0 0.0"/>
      <inertia ixx="0.000039" ixy="0.000000" ixz="0.000000" iyx="0.000000" iyy="0.000005" iyz="0.000000" izx="0.000000" izy="0.000000" izz="0.000035"/>
    </inertial>
  </link>
  <link name="right_robotiq_85_right_inner_knuckle_link">
    <visual>
      <geometry>
        <mesh filename="package://robotiq_c2_description/meshes/robotiq_c2/visual/robotiq_85_gripper_joint_2_R.dae"/>
      </geometry>
      <origin rpy="0 -1.5707 0" xyz="0 -.04843 .0127"/>
    </visual>
    <collision>
      <geometry>
        <mesh filename="package://robotiq_c2_description/meshes/robotiq_c2/collision/robotiq_85_gripper_joint_2_R.dae"/>
      </geometry>
      <origin rpy="-1.5707 -1.5707 0" xyz="0 -.04843 .0127"/>
    </collision>
    <inertial>
      <mass value="0.029951"/>
      <origin xyz="0.0 0.0 0.0"/>
      <inertia ixx="0.000039" ixy="0.000000" ixz="0.000000" iyx="0.000000" iyy="0.000005" iyz="0.000000" izx="0.000000" izy="0.000000" izz="0.000035"/>
    </inertial>
  </link>
  <!--  /\  -->
  <!--  /\  -->
  <joint name="right_robotiq_85_left_finger_tip_joint" type="revolute">
    <parent link="right_robotiq_85_left_inner_knuckle_link"/>
    <child link="right_robotiq_85_left_finger_tip_link"/>
    <axis xyz="1 0 0"/>
    <origin rpy="0 0 0" xyz="0 .04196 -.0388"/>
    <limit effort="1000" lower="0" upper="1.5707" velocity="2.0"/>
    <mimic joint="right_robotiq_85_left_knuckle_joint" multiplier="-1"/>
  </joint>
  <joint name="right_robotiq_85_right_finger_tip_joint" type="revolute">
    <parent link="right_robotiq_85_right_inner_knuckle_link"/>
    <child link="right_robotiq_85_right_finger_tip_link"/>
    <axis xyz="1 0 0"/>
    <origin rpy="0 0 0" xyz="0 .04196 -.0388"/>
    <limit effort="1000" lower="0" upper="1.5707" velocity="2.0"/>
    <mimic joint="right_robotiq_85_left_knuckle_joint" multiplier="-1"/>
  </joint>
  <!--  \/  -->
  <!--  \/  -->
  <link name="right_robotiq_85_left_finger_tip_link">
    <visual>
      <geometry>
        <mesh filename="package://robotiq_c2_description/meshes/robotiq_c2/visual/robotiq_85_gripper_joint_3_L.dae"/>
      </geometry>
      <origin rpy="0 1.5707 0" xyz="0 -.090381 .051505"/>
    </visual>
    <collision>
      <geometry>
        <mesh filename="package://robotiq_c2_description/meshes/robotiq_c2/collision/robotiq_85_gripper_joint_3_L.dae"/>
      </geometry>
      <origin rpy="-1.5707 1.5707 0" xyz="0 -.090381 .051505"/>
    </collision>
    <inertial>
      <mass value="0.019555"/>
      <origin xyz="0.0 0.0 0.0"/>
      <inertia ixx="0.000002" ixy="0.000000" ixz="0.000000" iyx="0.000000" iyy="0.000005" iyz="0.000000" izx="0.000000" izy="0.000000" izz="0.000006"/>
    </inertial>
  </link>
  <link name="right_robotiq_85_right_finger_tip_link">
    <visual>
      <geometry>
        <mesh filename="package://robotiq_c2_description/meshes/robotiq_c2/visual/robotiq_85_gripper_joint_3_R.dae"/>
      </geometry>
      <origin rpy="0 -1.5707 0" xyz="0 -.090381 .051505"/>
    </visual>
    <collision>
      <geometry>
        <mesh filename="package://robotiq_c2_description/meshes/robotiq_c2/collision/robotiq_85_gripper_joint_3_R.dae"/>
      </geometry>
      <origin rpy="-1.5707 -1.5707 0" xyz="0 -.090381 .051505"/>
    </collision>
    <inertial>
      <mass value="0.019555"/>
      <origin xyz="0.0 0.0 0.0"/>
      <inertia ixx="0.000002" ixy="0.000000" ixz="0.000000" iyx="0.000000" iyy="0.000005" iyz="0.000000" izx="0.000000" izy="0.000000" izz="0.000006"/>
    </inertial>
  </link>
</robot>
